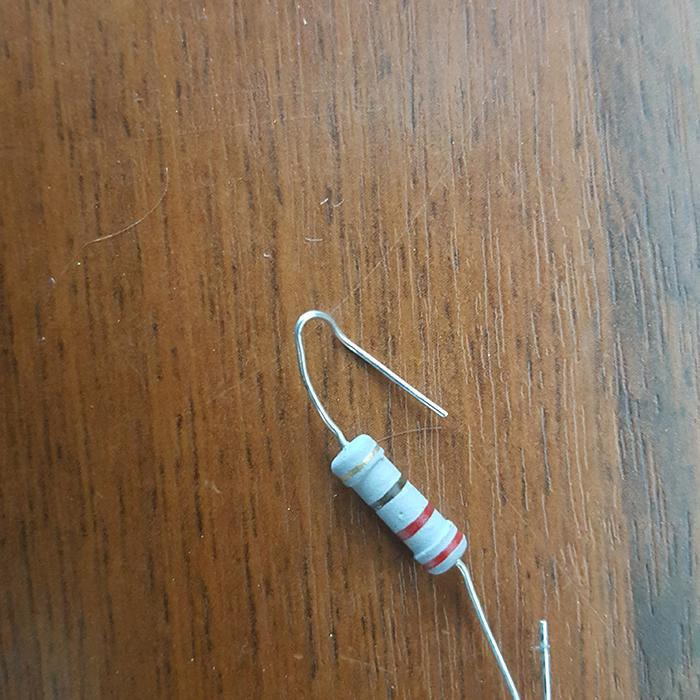resistor: (328, 429, 468, 575)
